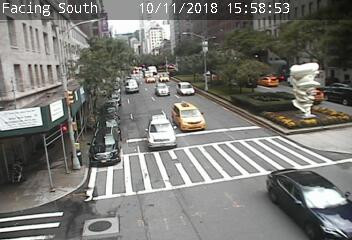car: (267, 168, 351, 240), (146, 115, 176, 149), (172, 103, 205, 132), (177, 82, 194, 95), (155, 83, 169, 96), (145, 76, 155, 83), (159, 75, 169, 82)
